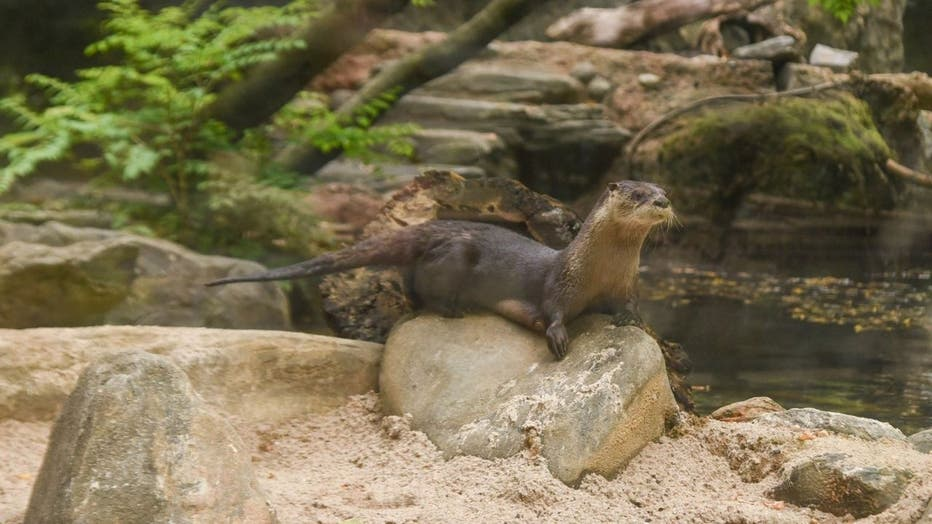otter: (189, 174, 697, 366)
